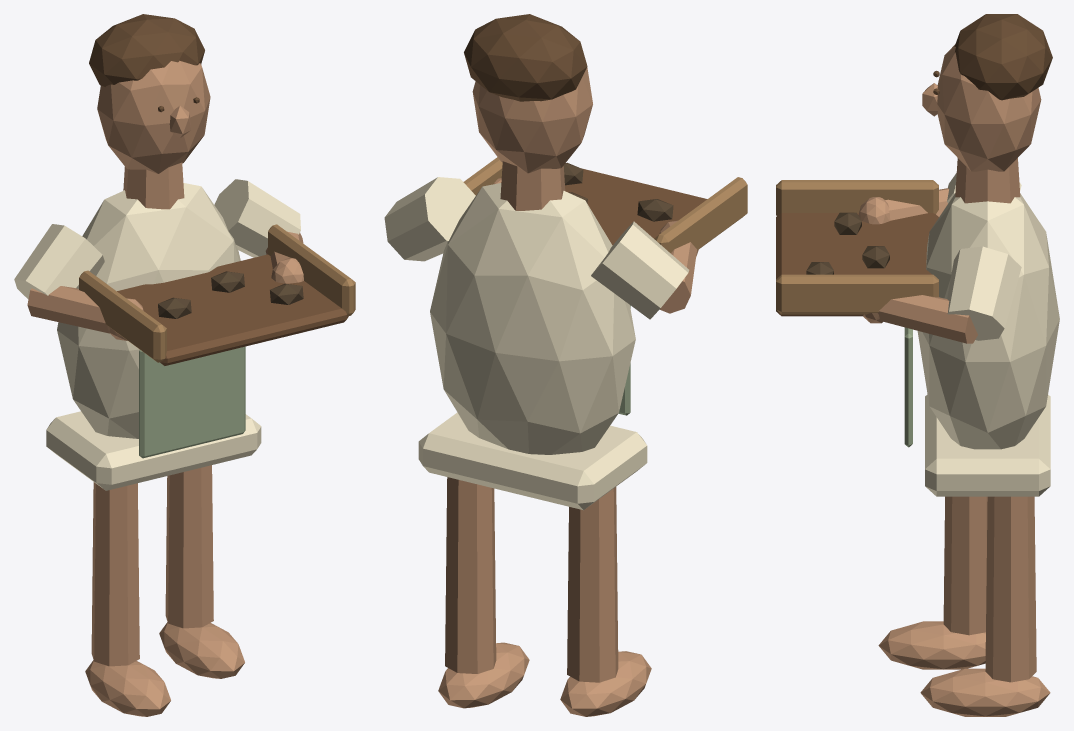
The picture shows the model from 3 angles, left to right: view 1: azimuth 30°, elevation 25°; view 2: azimuth 150°, elevation 25°; view 3: azimuth 270°, elevation 25°; orthographic projection. The views are drawn at different scales.
Visible parts, largest first — view 1: WW-051 Charcoal grading worker batched; view 2: WW-051 Charcoal grading worker batched; view 3: WW-051 Charcoal grading worker batched.
Part boxes in pixels (left/top/right/bottom): WW-051 Charcoal grading worker batched: left=14, top=14, right=355, bottom=716; WW-051 Charcoal grading worker batched: left=384, top=14, right=747, bottom=716; WW-051 Charcoal grading worker batched: left=776, top=14, right=1059, bottom=716.
Bounding box in the file's own units: 0.6995 × 1.59 × 0.61.
